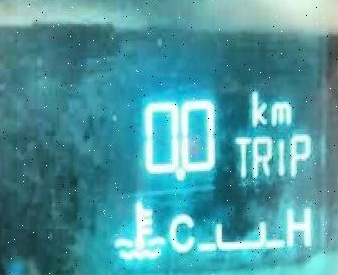-: (172, 162, 187, 187)
0: (178, 97, 215, 170), (143, 97, 178, 172)
X: (165, 209, 194, 254), (283, 202, 310, 247), (289, 130, 310, 179), (251, 134, 272, 180), (247, 87, 267, 125), (233, 132, 249, 178), (269, 97, 293, 127), (276, 135, 286, 179)
